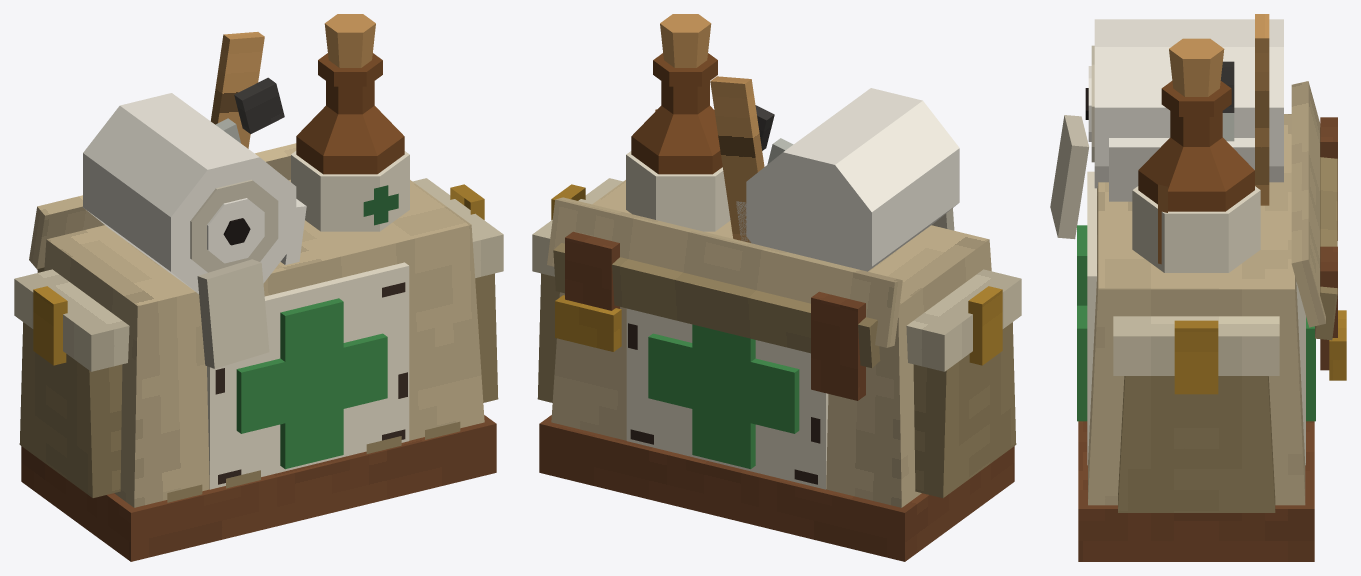
The model's file is pk_medkit.glb.
3 views of the same model, side by side, from view 1: azimuth 30°, elevation 25°; view 2: azimuth 150°, elevation 25°; view 3: azimuth 270°, elevation 25° (orthographic). The views are drawn at different scales.
Visible parts, largest first — view 1: pk_medkit; view 2: pk_medkit; view 3: pk_medkit.
Part boxes in pixels (x1,y1,x2,y2): pk_medkit: (14, 14, 503, 561); pk_medkit: (532, 14, 1021, 561); pk_medkit: (1050, 14, 1346, 561).
Size of the model in its own units: 0.368 by 0.352 by 0.2034.
Materials: 19 (7 with a texture image).
